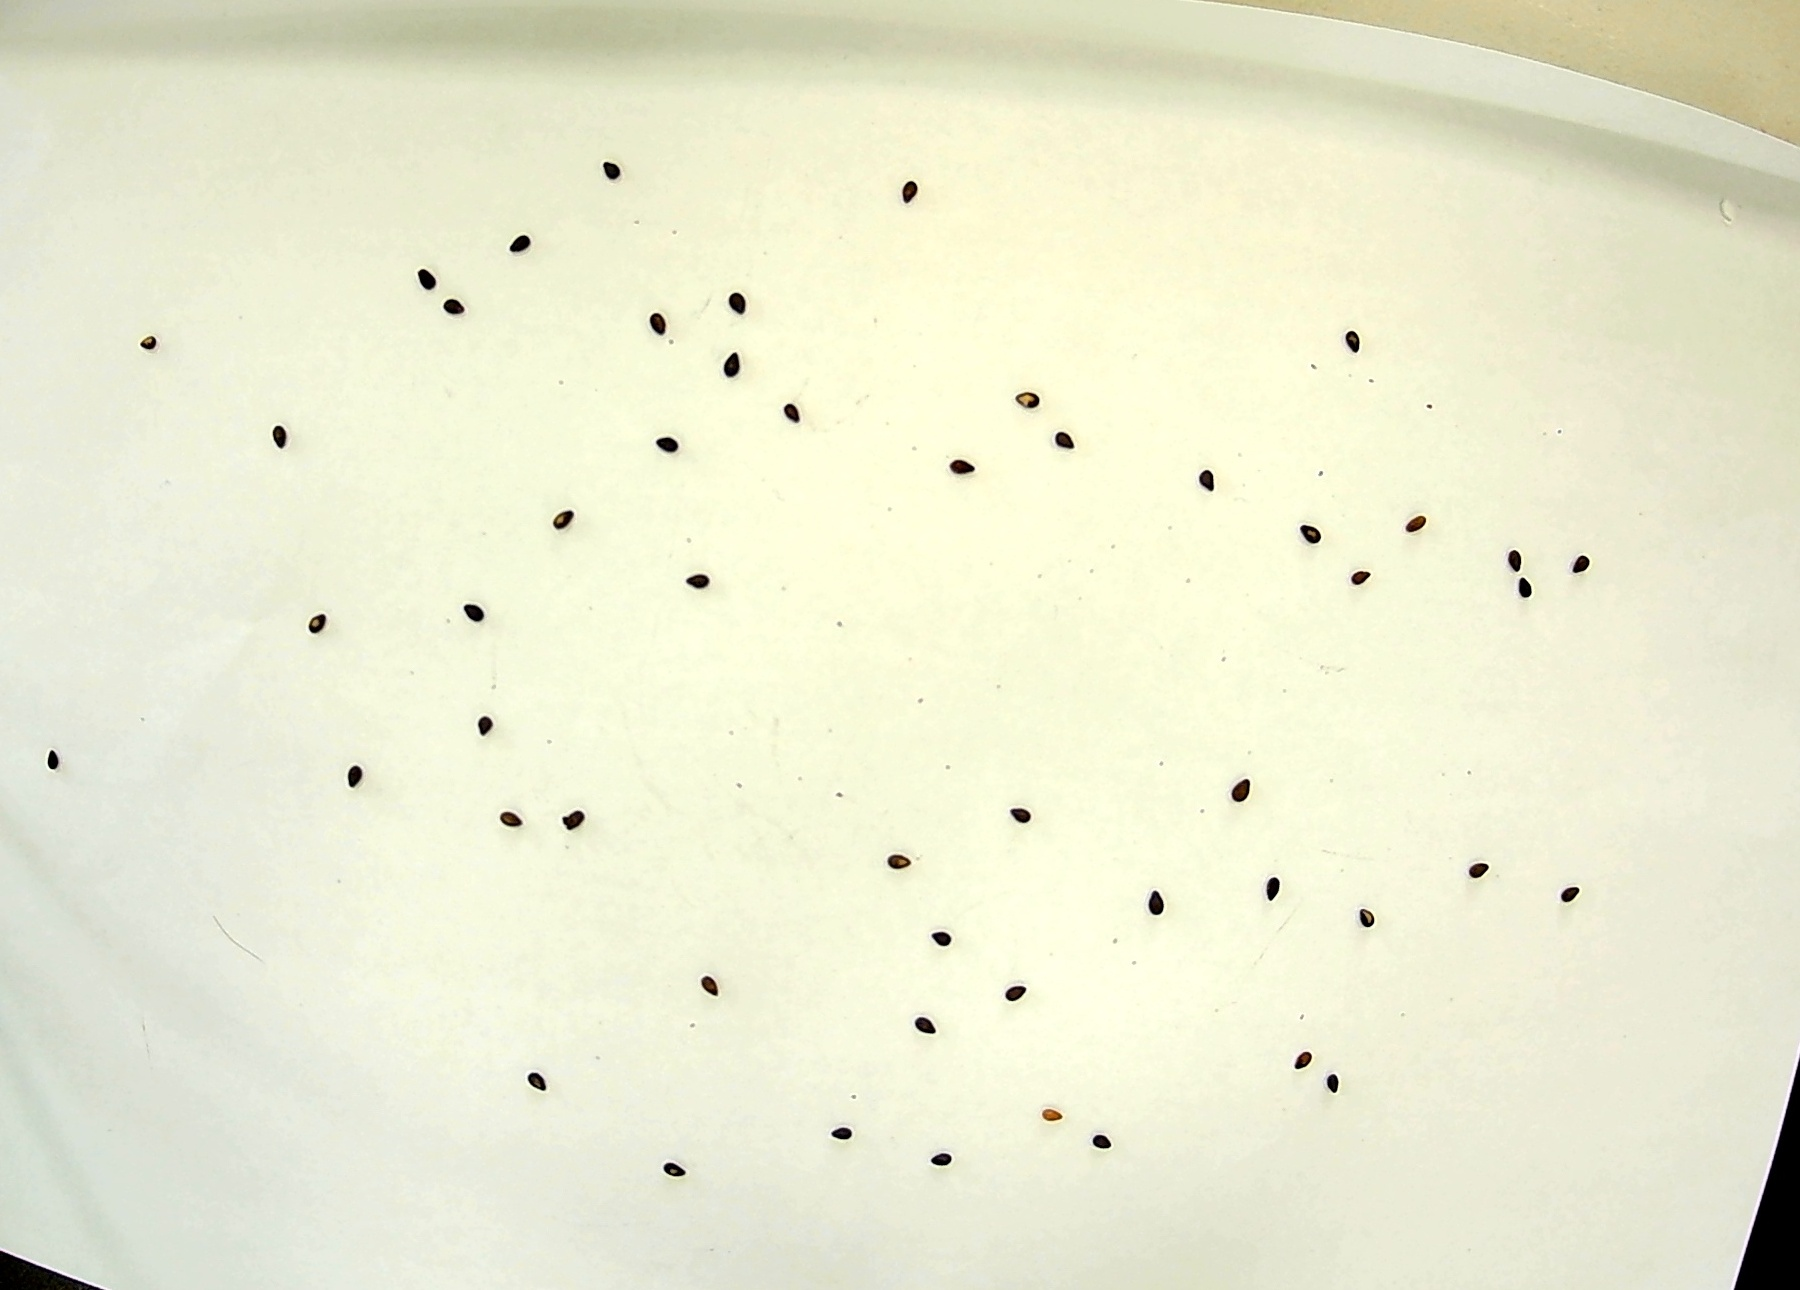sesami: (297, 600, 338, 639), (458, 586, 498, 625), (546, 505, 586, 544), (1007, 383, 1048, 422), (938, 457, 978, 496), (1404, 510, 1444, 549), (1330, 900, 1370, 940), (927, 921, 967, 961), (1081, 1122, 1122, 1162), (691, 956, 731, 995), (558, 794, 599, 833), (38, 741, 77, 780), (887, 168, 927, 207), (1259, 868, 1298, 907), (1003, 794, 1042, 833), (504, 225, 544, 262), (412, 258, 452, 296), (434, 289, 474, 327), (130, 331, 170, 369), (335, 762, 375, 800), (470, 708, 511, 746), (642, 424, 682, 462), (646, 302, 687, 339), (705, 281, 745, 318), (766, 396, 807, 434), (680, 561, 720, 599), (1185, 465, 1225, 503), (1330, 309, 1370, 346), (1284, 517, 1324, 554), (1323, 560, 1363, 598), (1485, 535, 1525, 572), (1511, 568, 1552, 606), (1550, 550, 1591, 588), (1557, 870, 1598, 907), (1465, 853, 1506, 891), (1274, 1046, 1314, 1083), (911, 1135, 952, 1173), (900, 1007, 940, 1044), (826, 1114, 867, 1152), (513, 1061, 554, 1099), (493, 800, 533, 838), (592, 151, 631, 188), (262, 429, 301, 466), (714, 348, 753, 385), (1049, 416, 1088, 454), (1312, 1062, 1351, 1100), (1141, 885, 1180, 923), (1222, 766, 1261, 804), (887, 838, 927, 875), (1000, 972, 1040, 1009), (1035, 1099, 1074, 1136), (654, 1156, 693, 1194)
